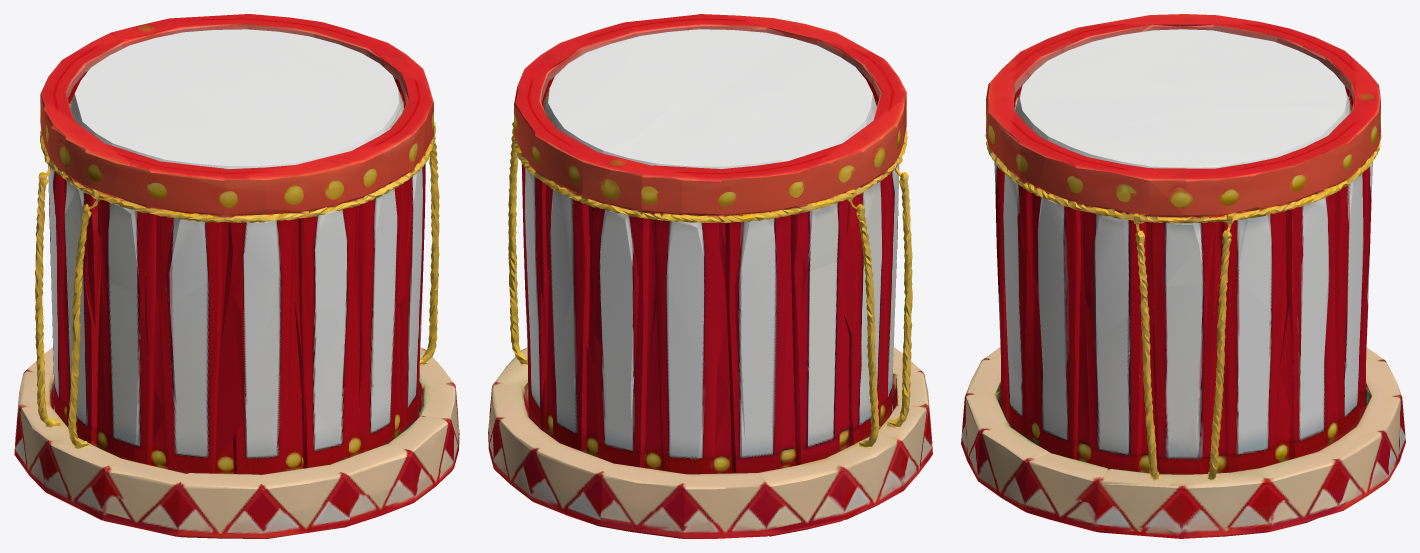
File: podium.glb
The picture shows the model from 3 angles, left to right: view 1: azimuth 30°, elevation 25°; view 2: azimuth 150°, elevation 25°; view 3: azimuth 270°, elevation 25°; orthographic projection.
Bounding box in the file's own units: 1.9 × 1.65 × 1.9.
Materials: 1 (1 with a texture image).
